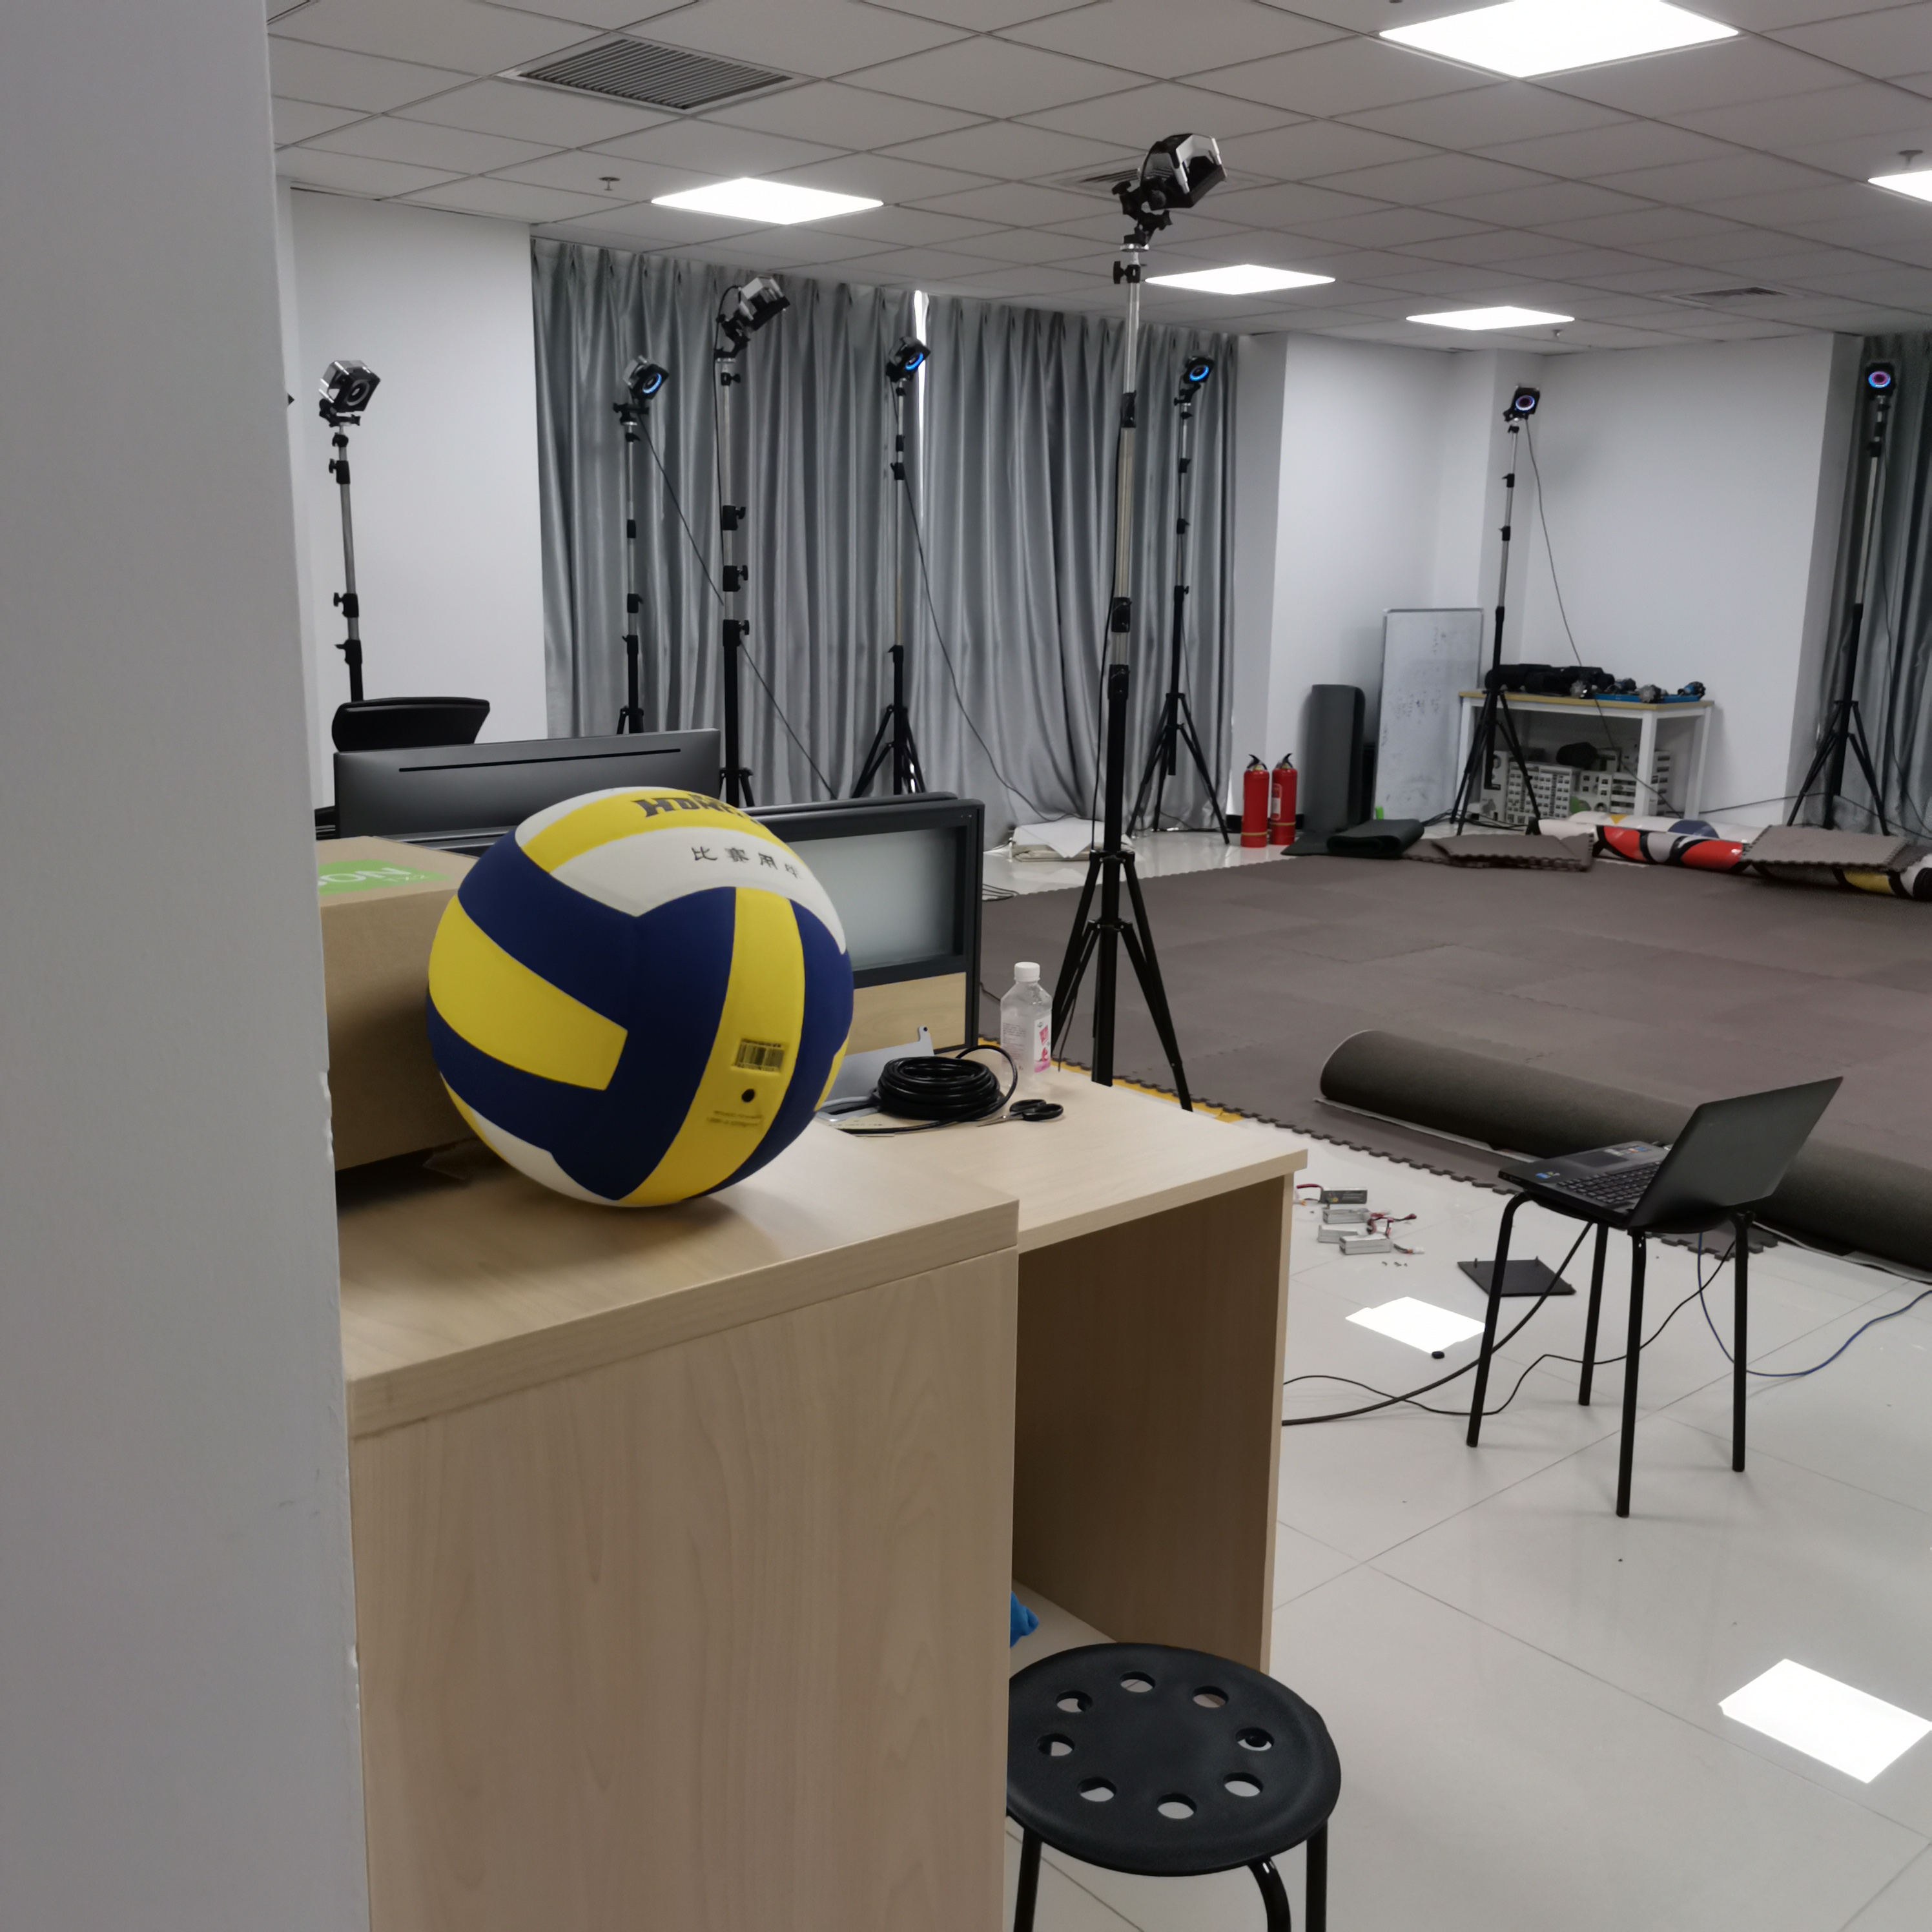volleyball: (428, 784, 856, 1217)
